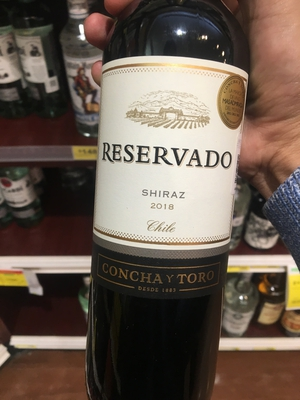reservado shiraz: (86, 15, 250, 400)
